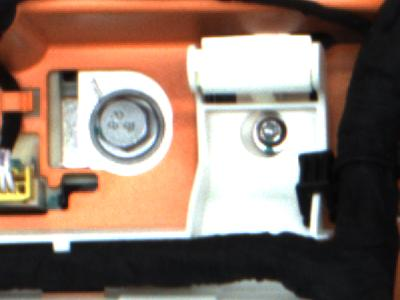nut_b: (80, 84, 167, 163)
screw_m: (249, 114, 292, 154)
